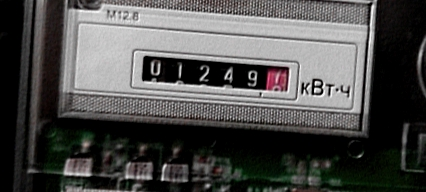0: (148, 57, 163, 78)
1: (173, 60, 185, 80)
2: (197, 63, 212, 84)
4: (222, 65, 235, 85)
7: (270, 66, 284, 86)
9: (244, 67, 260, 90)
screen: (121, 41, 300, 107)
